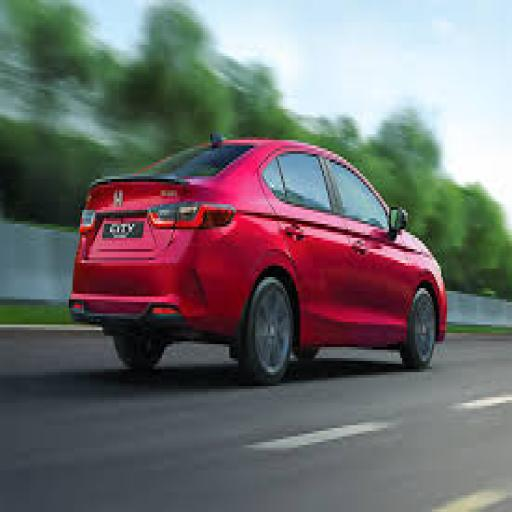License: (101, 218, 149, 244)
